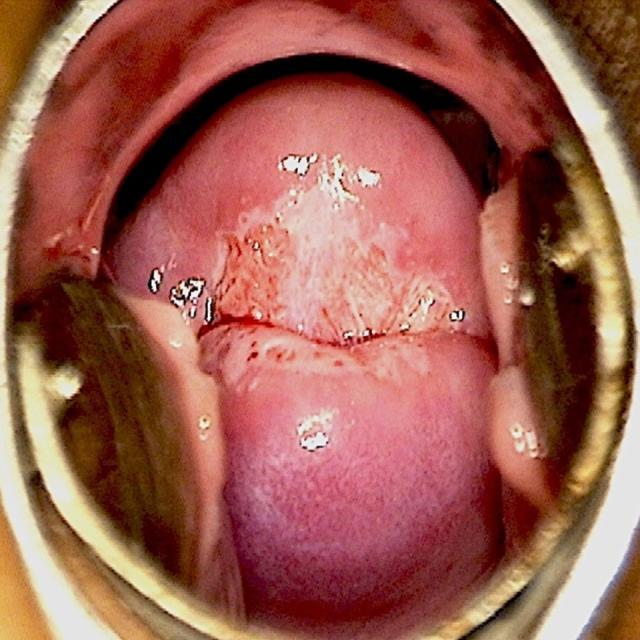cervical_lesion: (129, 121, 561, 519)
